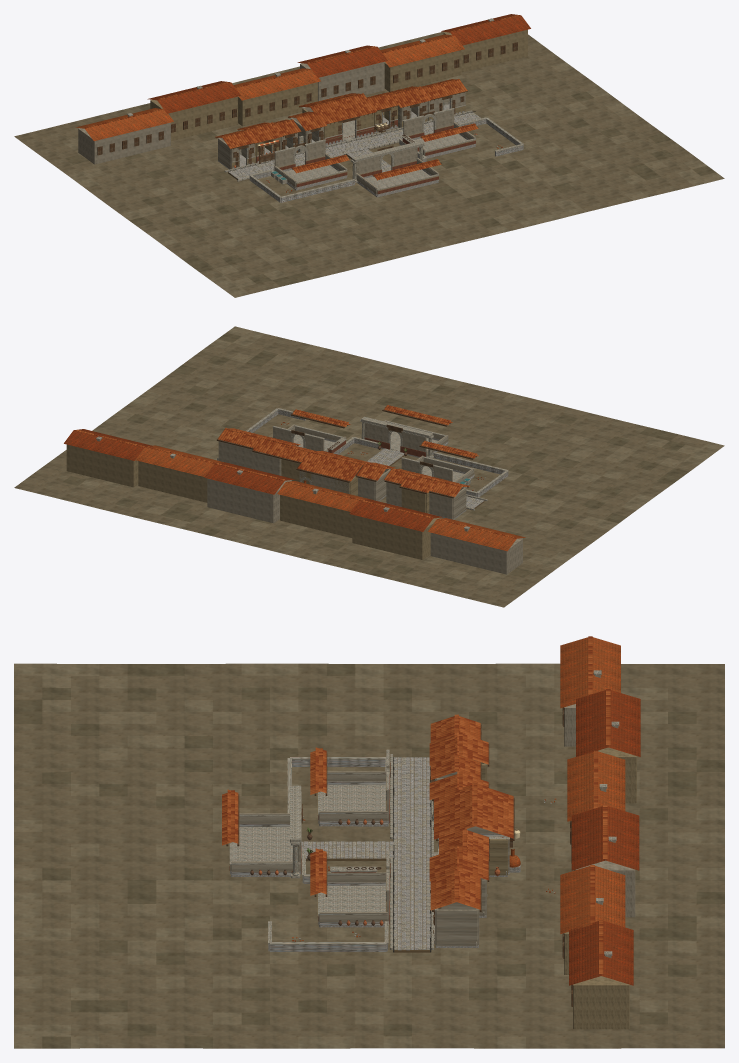
The model's file is pompeii_district.glb.
The picture shows the model from 3 angles, top to bottom: view 1: azimuth 30°, elevation 25°; view 2: azimuth 150°, elevation 25°; view 3: azimuth 270°, elevation 25°; orthographic projection. The views are drawn at different scales.
Parts seen in each view (by area): view 1: district_ground, backdrop_buildings, street_paving, district_foundations, household_cutaway_walls, thermopolium_cutaway_walls, fullery_cutaway_walls, bakery_roof, bakery_walls, frontage_6_roof, frontage_0, household_details (+8 smaller); view 2: district_ground, backdrop_buildings, district_foundations, bakery_roof, household_cutaway_walls, thermopolium_cutaway_walls, fullery_cutaway_walls, frontage_0, frontage_6, household_walls, street_paving, frontage_6_roof (+9 smaller); view 3: district_ground, backdrop_buildings, street_paving, bakery_roof, district_foundations, household_floor, fullery_cutaway_walls, frontage_6, thermopolium_cutaway_walls, fullery_floor, thermopolium_floor, frontage_6_roof (+12 smaller).
Part boxes in pixels (x1=…): district_ground: x1=14, y1=31, x2=724, y2=297; backdrop_buildings: x1=75, y1=14, x2=530, y2=164; street_paving: x1=224, y1=110, x2=481, y2=181; district_foundations: x1=249, y1=117, x2=523, y2=202; household_cutaway_walls: x1=356, y1=147, x2=438, y2=196; thermopolium_cutaway_walls: x1=403, y1=108, x2=476, y2=157; fullery_cutaway_walls: x1=274, y1=139, x2=347, y2=189; bakery_roof: x1=299, y1=93, x2=376, y2=124; bakery_walls: x1=302, y1=108, x2=374, y2=145; frontage_6_roof: x1=419, y1=79, x2=467, y2=100; frontage_0: x1=218, y1=137, x2=255, y2=168; household_details: x1=351, y1=141, x2=424, y2=183; district_ground: x1=14, y1=326, x2=724, y2=607; backdrop_buildings: x1=64, y1=429, x2=525, y2=574; district_foundations: x1=246, y1=408, x2=508, y2=497; bakery_roof: x1=296, y1=450, x2=371, y2=482; household_cutaway_walls: x1=364, y1=421, x2=448, y2=456; thermopolium_cutaway_walls: x1=272, y1=425, x2=346, y2=451; fullery_cutaway_walls: x1=401, y1=456, x2=474, y2=482; frontage_0: x1=429, y1=487, x2=466, y2=518; frontage_6: x1=217, y1=441, x2=254, y2=469; household_walls: x1=364, y1=420, x2=448, y2=456; street_paving: x1=366, y1=448, x2=487, y2=510; frontage_6_roof: x1=216, y1=428, x2=272, y2=449; district_ground: x1=14, y1=663, x2=724, y2=1048; backdrop_buildings: x1=560, y1=636, x2=640, y2=1029; street_paving: x1=301, y1=754, x2=433, y2=952; bakery_roof: x1=434, y1=783, x2=514, y2=840; district_foundations: x1=231, y1=757, x2=507, y2=951; household_floor: x1=233, y1=827, x2=303, y2=861; fullery_cutaway_walls: x1=317, y1=749, x2=389, y2=824; frontage_6: x1=434, y1=902, x2=479, y2=947; thermopolium_cutaway_walls: x1=317, y1=850, x2=389, y2=925; fullery_floor: x1=321, y1=784, x2=390, y2=810; thermopolium_floor: x1=321, y1=885, x2=390, y2=911; frontage_6_roof: x1=430, y1=869, x2=481, y2=911.
Size of the model in its own units: 64 by 4.77 by 50.
Materials: 38 (38 with a texture image).
